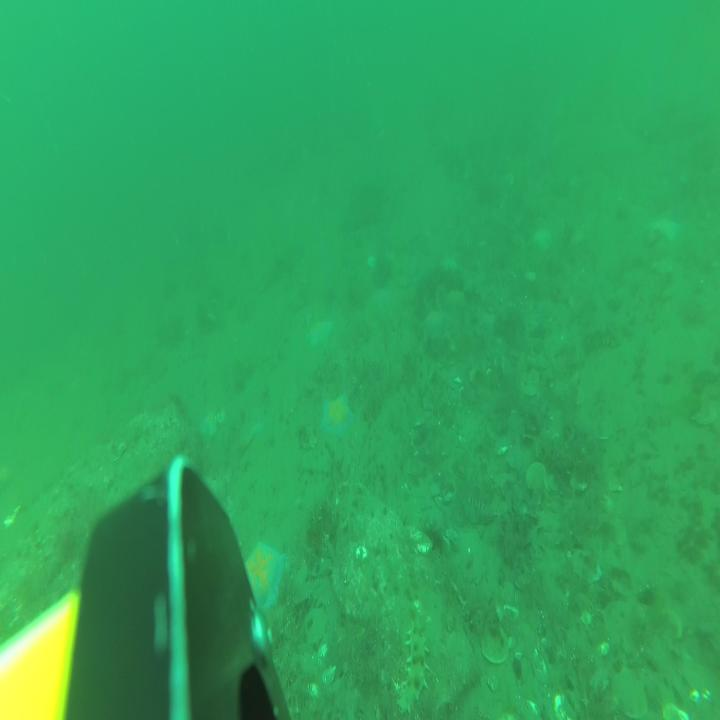echinus: (419, 511, 449, 561)
holothurian: (397, 619, 431, 714), (581, 324, 621, 356)
scallop: (611, 666, 649, 720), (480, 618, 511, 664), (570, 549, 604, 584), (657, 604, 685, 645), (460, 548, 488, 587), (524, 454, 546, 494), (693, 401, 719, 429), (543, 469, 562, 496), (592, 417, 613, 441), (300, 424, 318, 451), (518, 378, 538, 397), (522, 368, 542, 385)
starfish: (240, 534, 288, 614), (320, 389, 354, 442), (650, 210, 681, 247), (304, 315, 334, 352), (197, 411, 223, 442), (424, 302, 445, 339), (530, 222, 552, 253)
